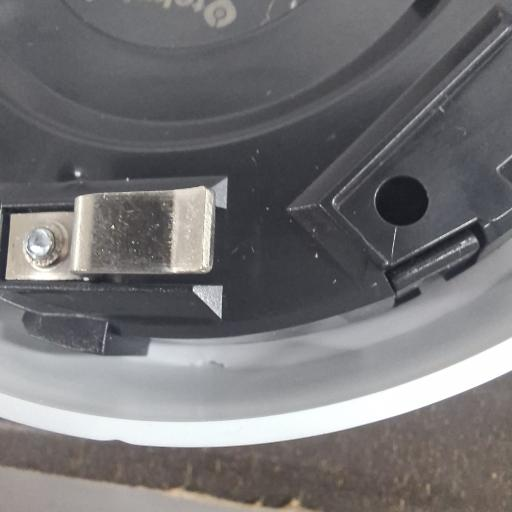yaysiz: (0, 185, 218, 282)
